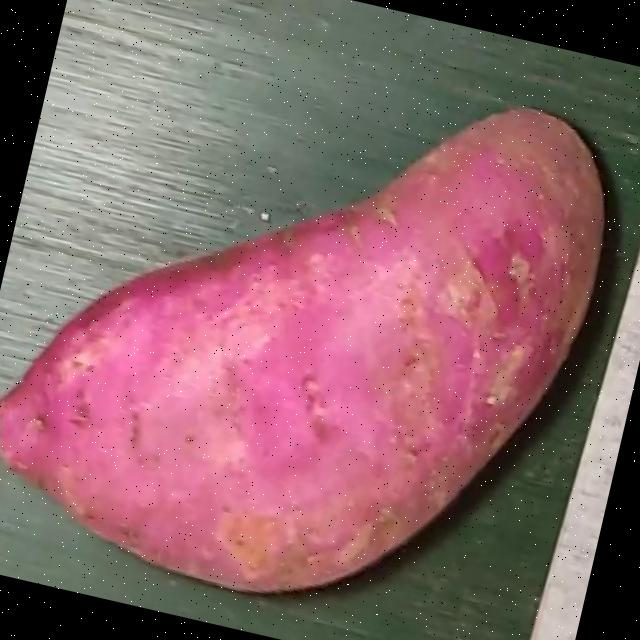Sweet Potato: (0, 104, 607, 592)
